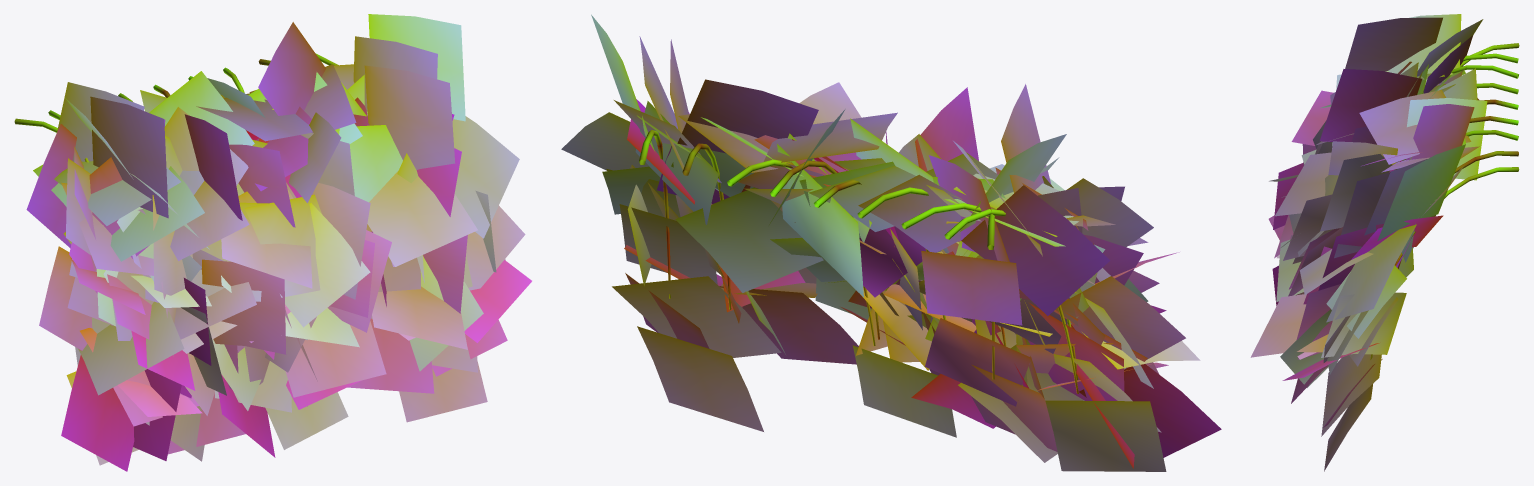
File: bougainvillea_cascade.glb
The picture shows the model from 3 angles, left to right: view 1: azimuth 30°, elevation 25°; view 2: azimuth 150°, elevation 25°; view 3: azimuth 270°, elevation 25°; orthographic projection. The views are drawn at different scales.
Visible parts, largest first — view 1: bougainvillea_cascade_leaves, bougainvillea_cascade_stems; view 2: bougainvillea_cascade_leaves, bougainvillea_cascade_stems; view 3: bougainvillea_cascade_leaves, bougainvillea_cascade_stems.
Boxes of the visible parts, x1,y1,x2,y2 form: bougainvillea_cascade_leaves: [26, 14, 531, 471]; bougainvillea_cascade_stems: [14, 53, 338, 162]; bougainvillea_cascade_leaves: [561, 14, 1221, 471]; bougainvillea_cascade_stems: [639, 130, 1078, 393]; bougainvillea_cascade_leaves: [1250, 14, 1487, 471]; bougainvillea_cascade_stems: [1370, 43, 1519, 359].
Bounding box in the file's own units: 3.89 × 2.63 × 2.02.
